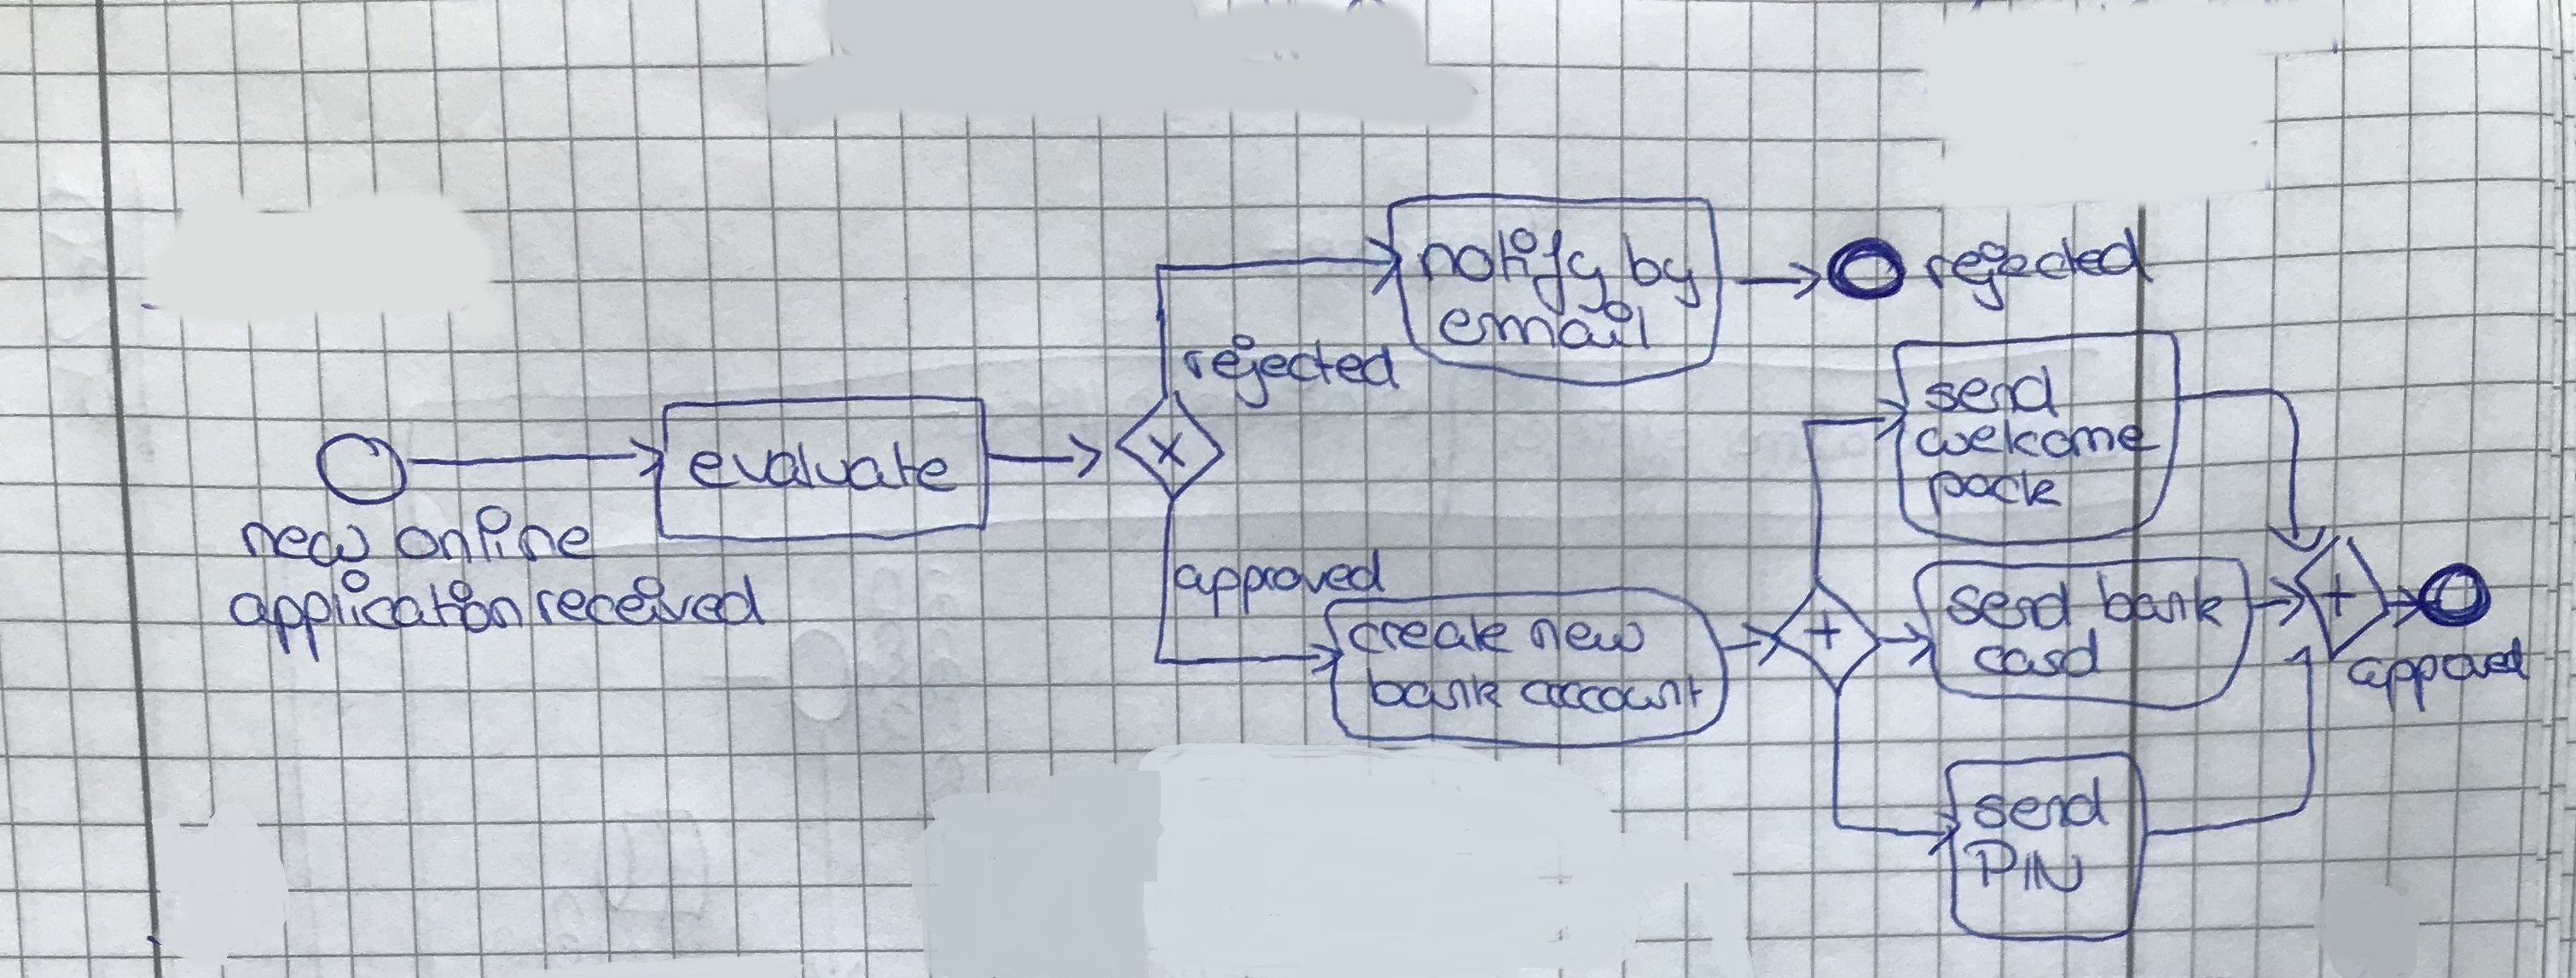PIN: (1965, 840, 2090, 896)
account: (1511, 656, 1713, 720)
application: (215, 569, 531, 664)
approved: (2341, 641, 2535, 722), (1171, 549, 1393, 618)
bank: (1359, 654, 1510, 720), (2093, 574, 2229, 634)
by: (1618, 228, 1709, 306)
card: (1966, 628, 2116, 679)
create: (1341, 615, 1516, 659)
email: (1431, 304, 1649, 357)
evaluate: (683, 439, 954, 493)
new: (237, 516, 381, 572), (1521, 608, 1658, 659)
notify: (1414, 220, 1615, 312)
online: (384, 503, 611, 565)
pack: (1920, 465, 2068, 513)
received: (529, 572, 770, 633)
rejected: (1924, 214, 2155, 316), (1178, 334, 1401, 408)
send: (1975, 773, 2116, 838), (1925, 362, 2070, 419), (1948, 580, 2093, 633)
welcome: (1907, 414, 2162, 462)
